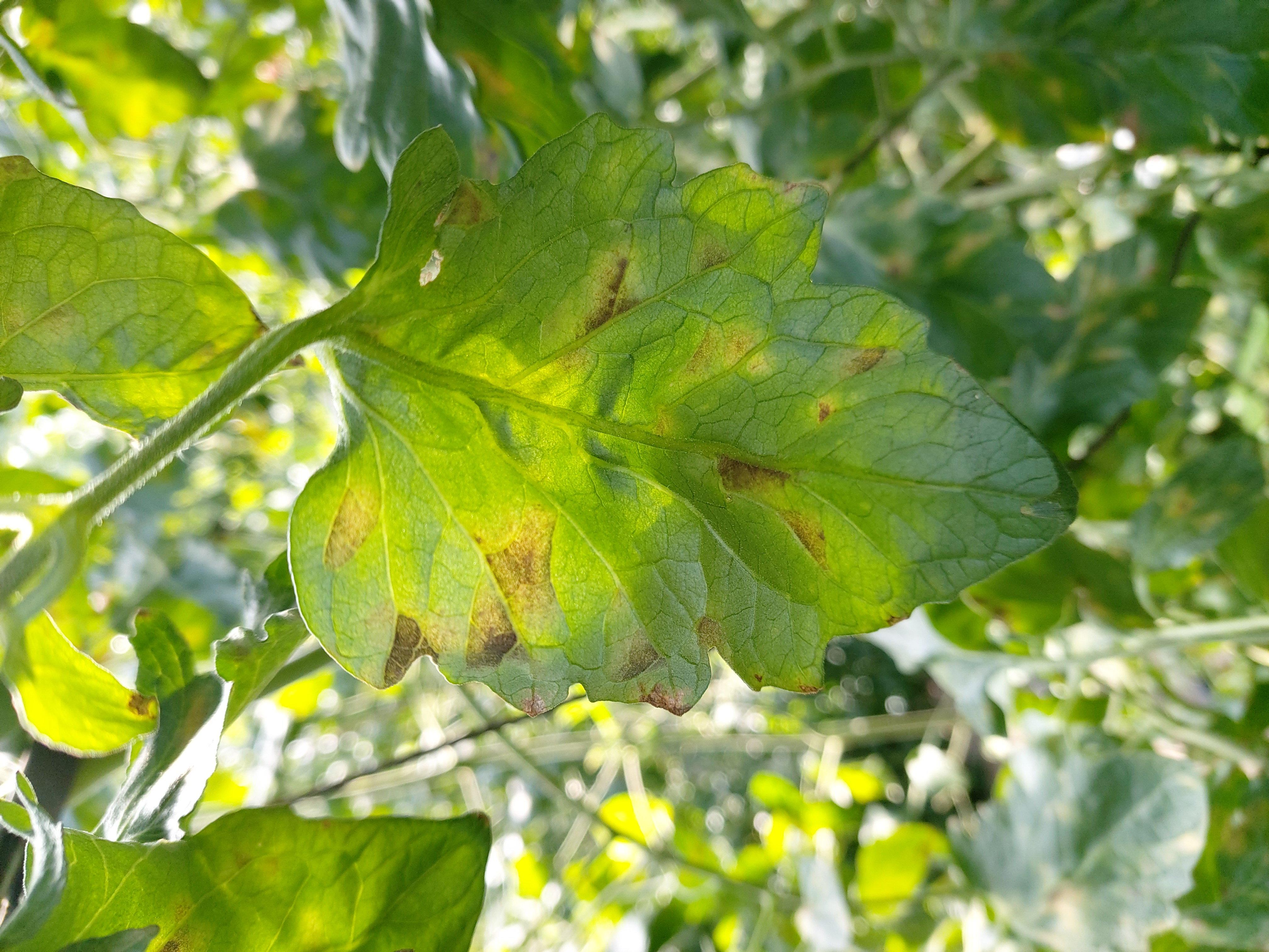Leaf Mold: (283, 116, 1076, 724)
